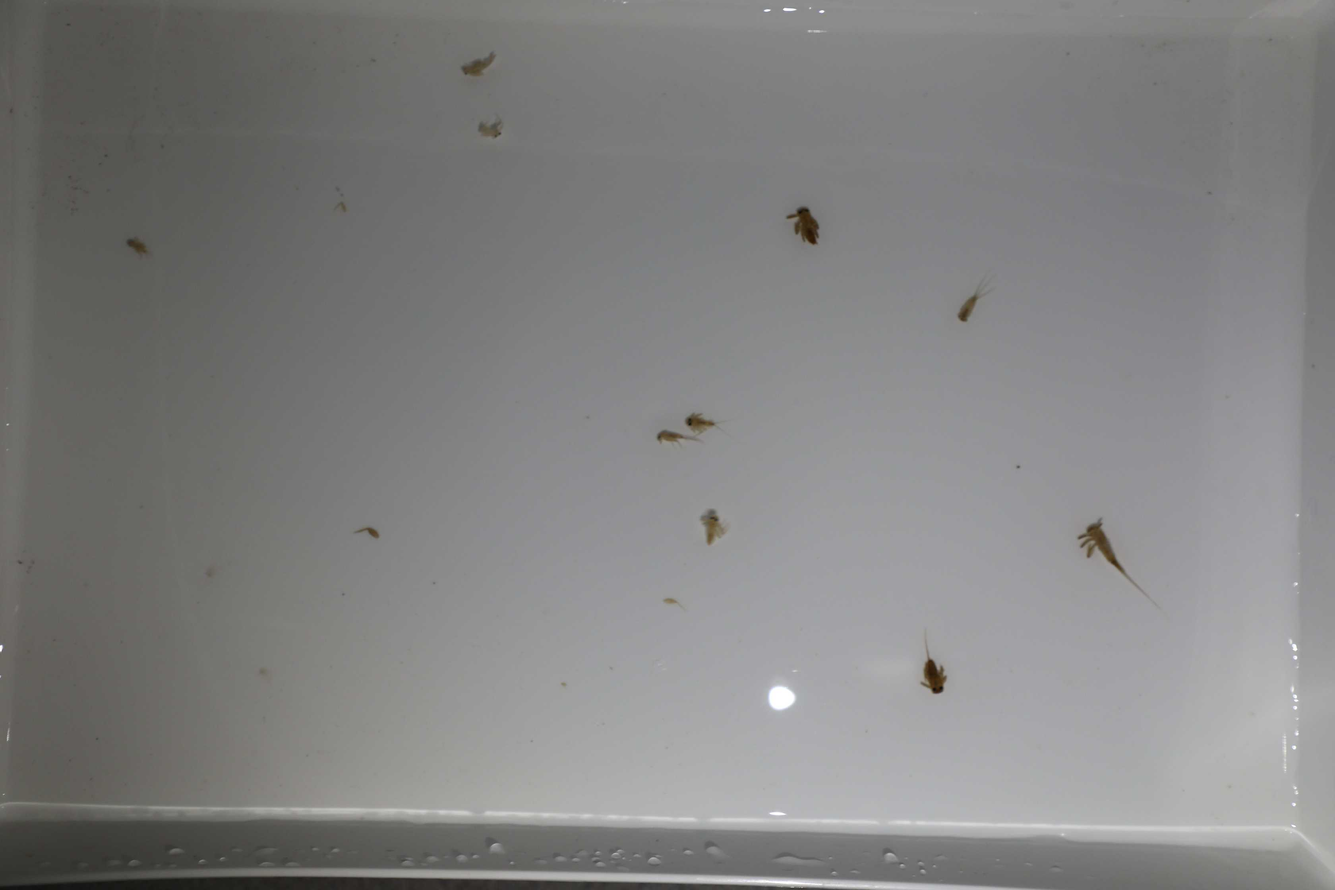Mayfly: (1065, 507, 1162, 606), (774, 201, 824, 258), (956, 266, 999, 329), (911, 629, 948, 700), (695, 504, 731, 550), (654, 421, 705, 451), (456, 50, 502, 79), (680, 405, 731, 431), (471, 111, 509, 145), (127, 233, 157, 263)
